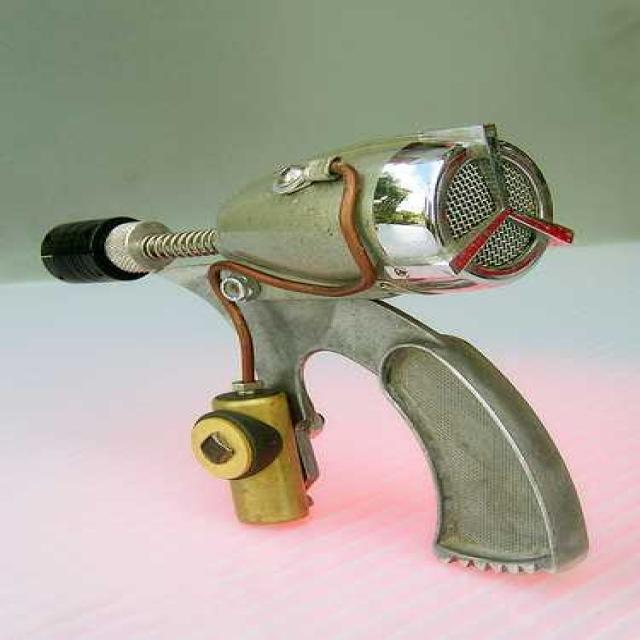microphone: (223, 125, 562, 295)
